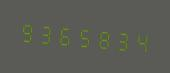eight: (93, 20, 111, 55)
five: (74, 19, 92, 53)
four: (131, 24, 149, 58)
nine: (17, 14, 35, 48)
six: (55, 17, 73, 51)
three: (36, 15, 54, 50), (112, 22, 130, 56)
